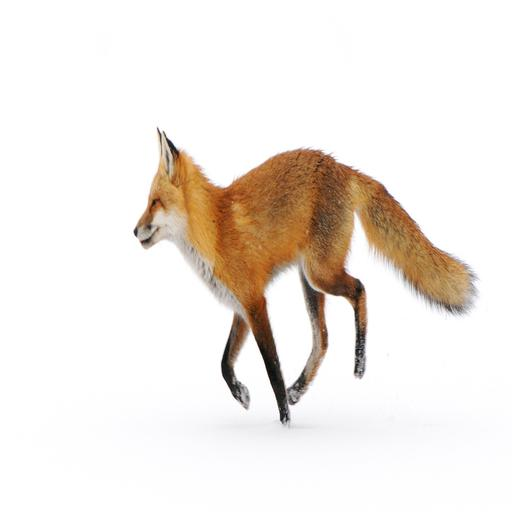Fox: (130, 120, 482, 432)
